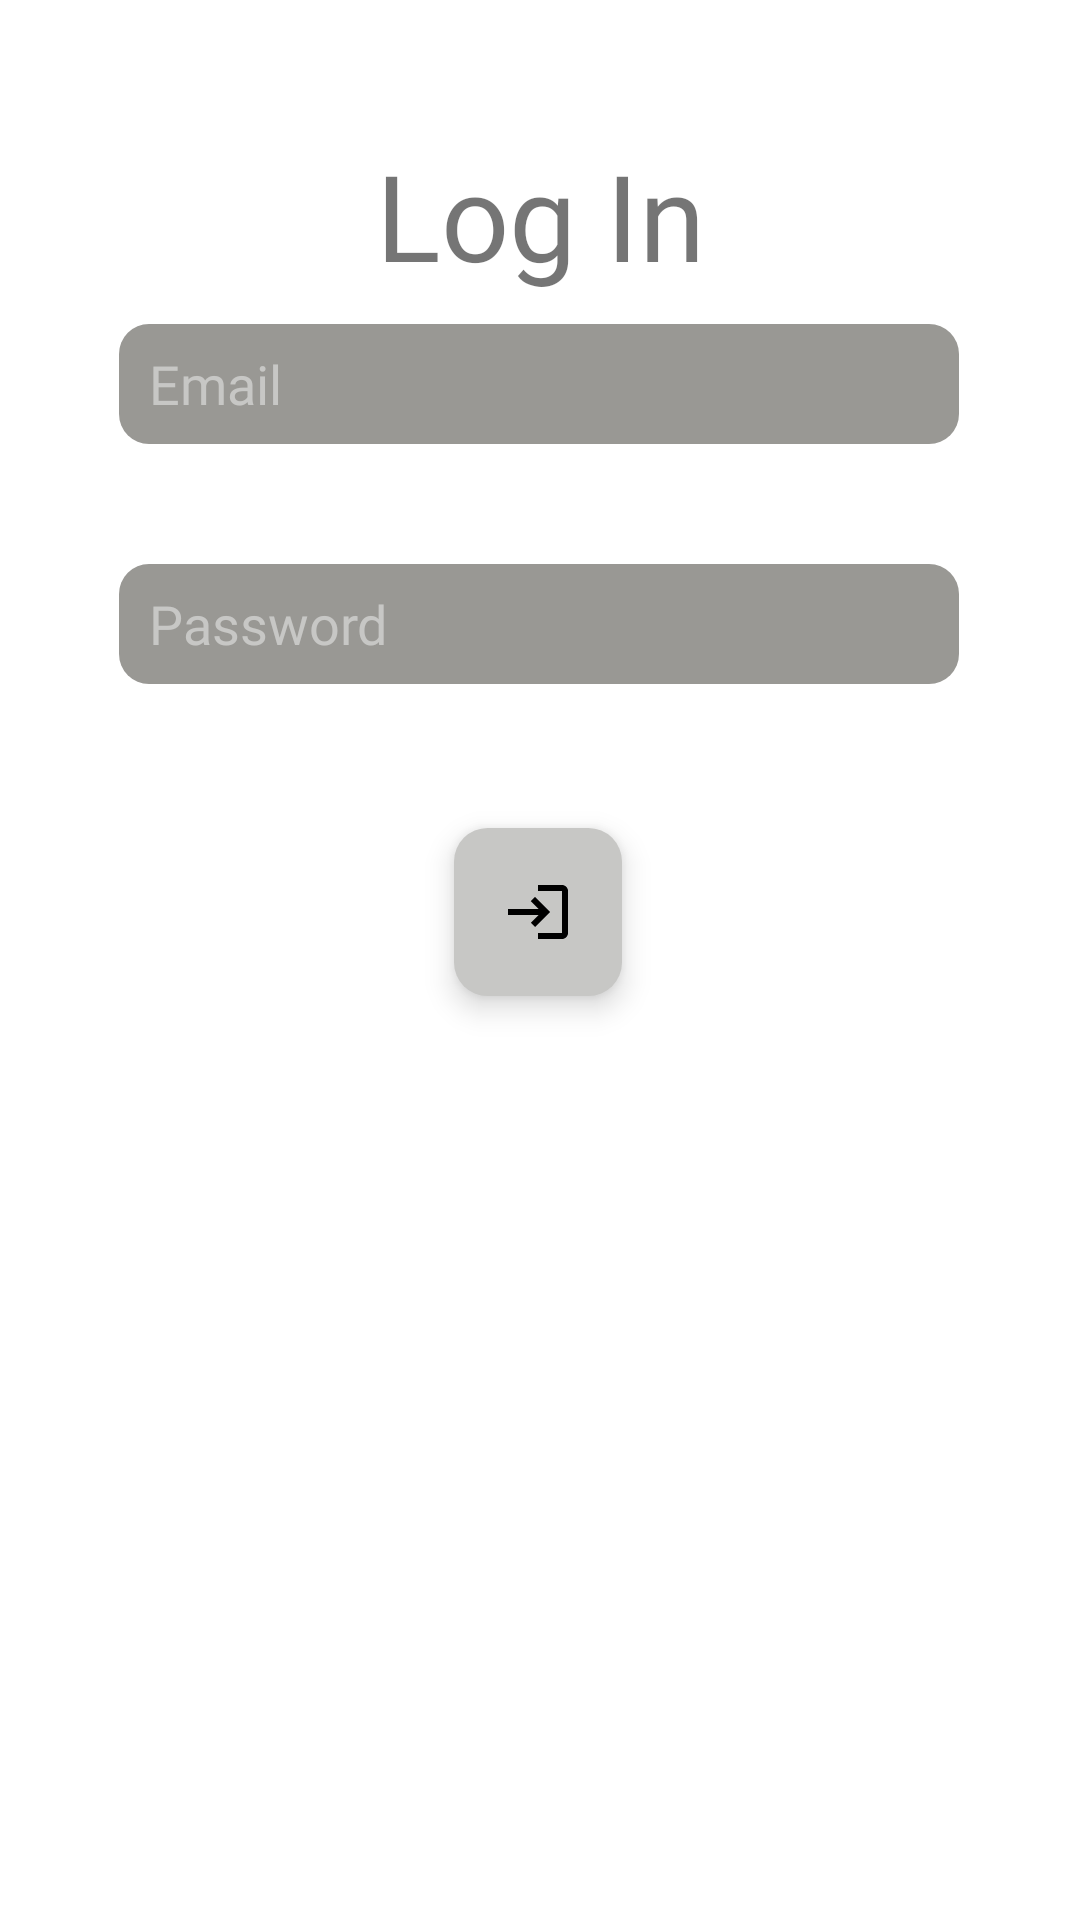

Point at icon controls on the screen. Image size 1080 × 1920, points as point (x, y).
login: point (538, 912)
